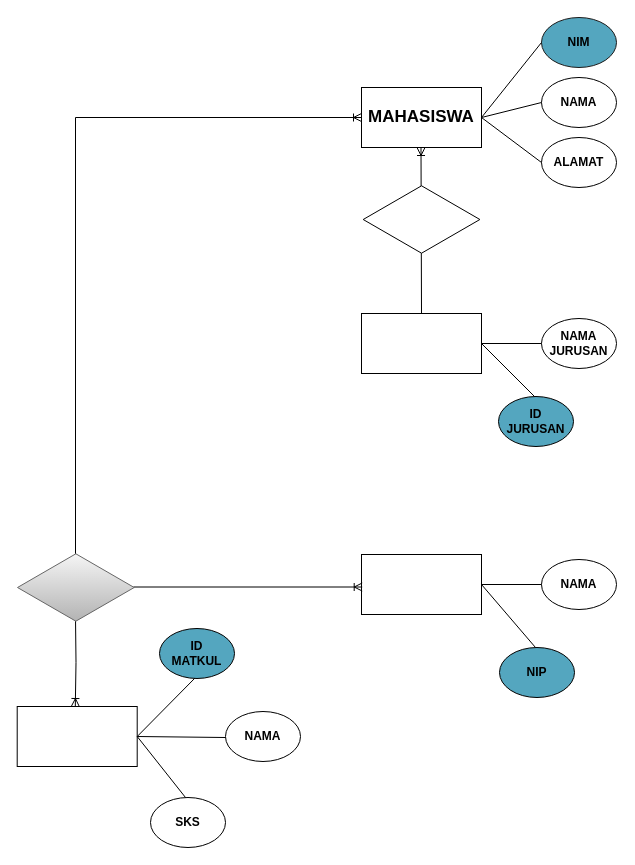
Image size: 635x865. Some labels were removed from this diagram. Each missing label, with the centre of its shape:
"DOSEN" goes at point 421,584.
"Jadwal" goes at point 75,587.
"JURUSAN" goes at point 421,343.
"MATAKULIAH" goes at point 76,736.
"memilih" goes at point 421,219.
